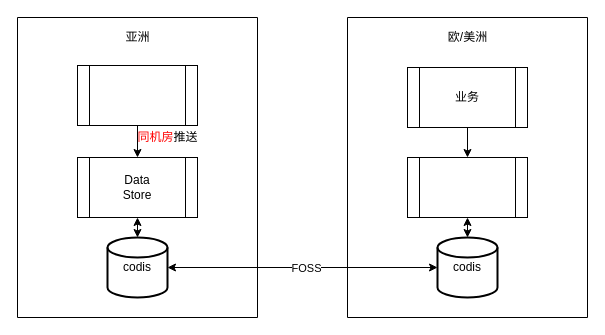
Some shapes in this 605 by 335 pixel diagram are drawn without their labels. The box of each missing label's shape, as (x1, y1, x2, y2) in pixels:
Data Query: (406, 156, 528, 218)
GM 主点: (76, 64, 198, 126)
